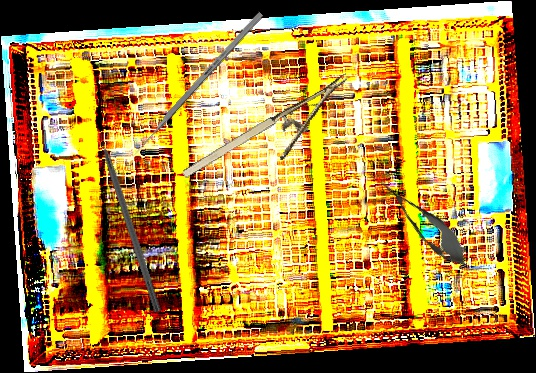Hook Surgical: (93, 122, 164, 313)
Micro Scissor: (369, 168, 479, 277)
Needle Holder: (178, 72, 369, 206)
Pusher: (129, 11, 264, 160)
